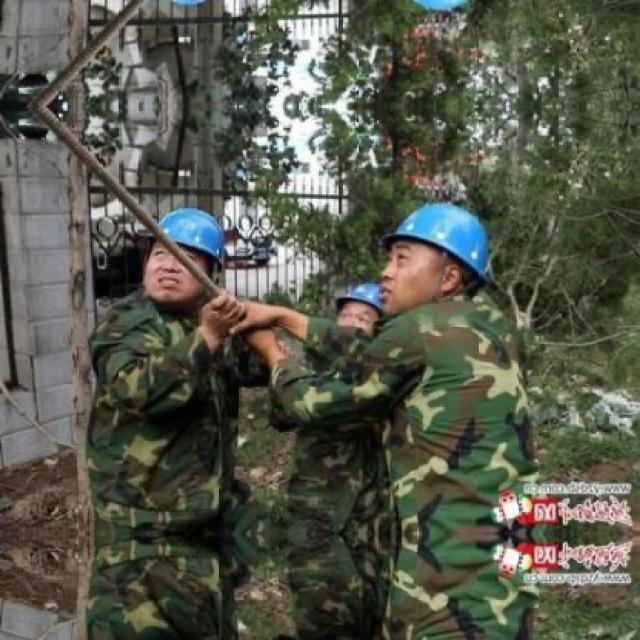con casco: (326, 192, 520, 373), (132, 185, 239, 344), (316, 261, 406, 388)
